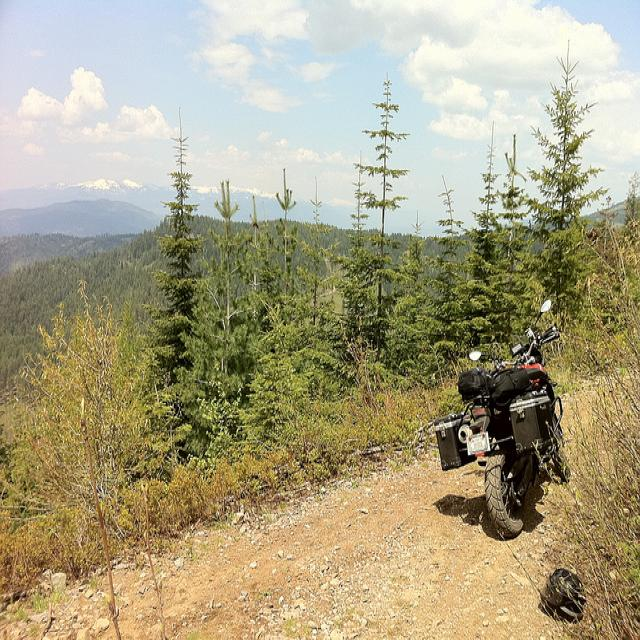motor: (437, 294, 565, 541)
